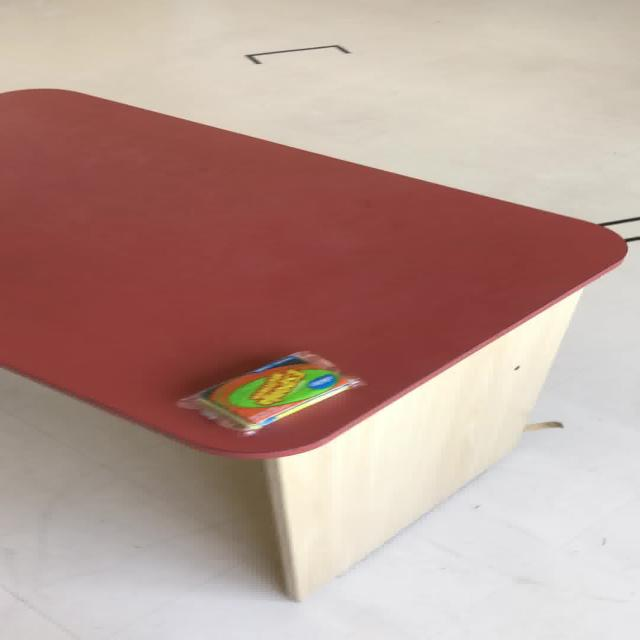sponge: (174, 349, 366, 432)
